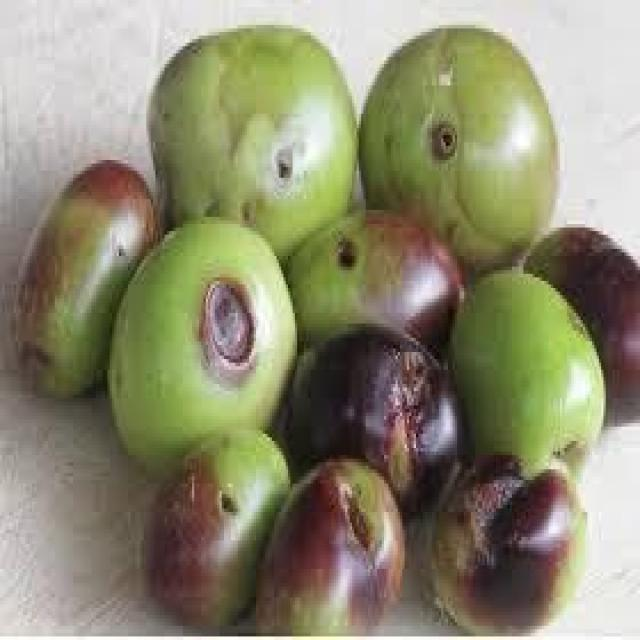Anthracnose: (358, 25, 556, 270), (149, 25, 352, 256), (108, 220, 294, 462), (16, 164, 155, 392), (286, 323, 457, 504), (420, 455, 586, 629), (144, 430, 288, 626), (258, 458, 402, 630), (286, 210, 444, 348)
